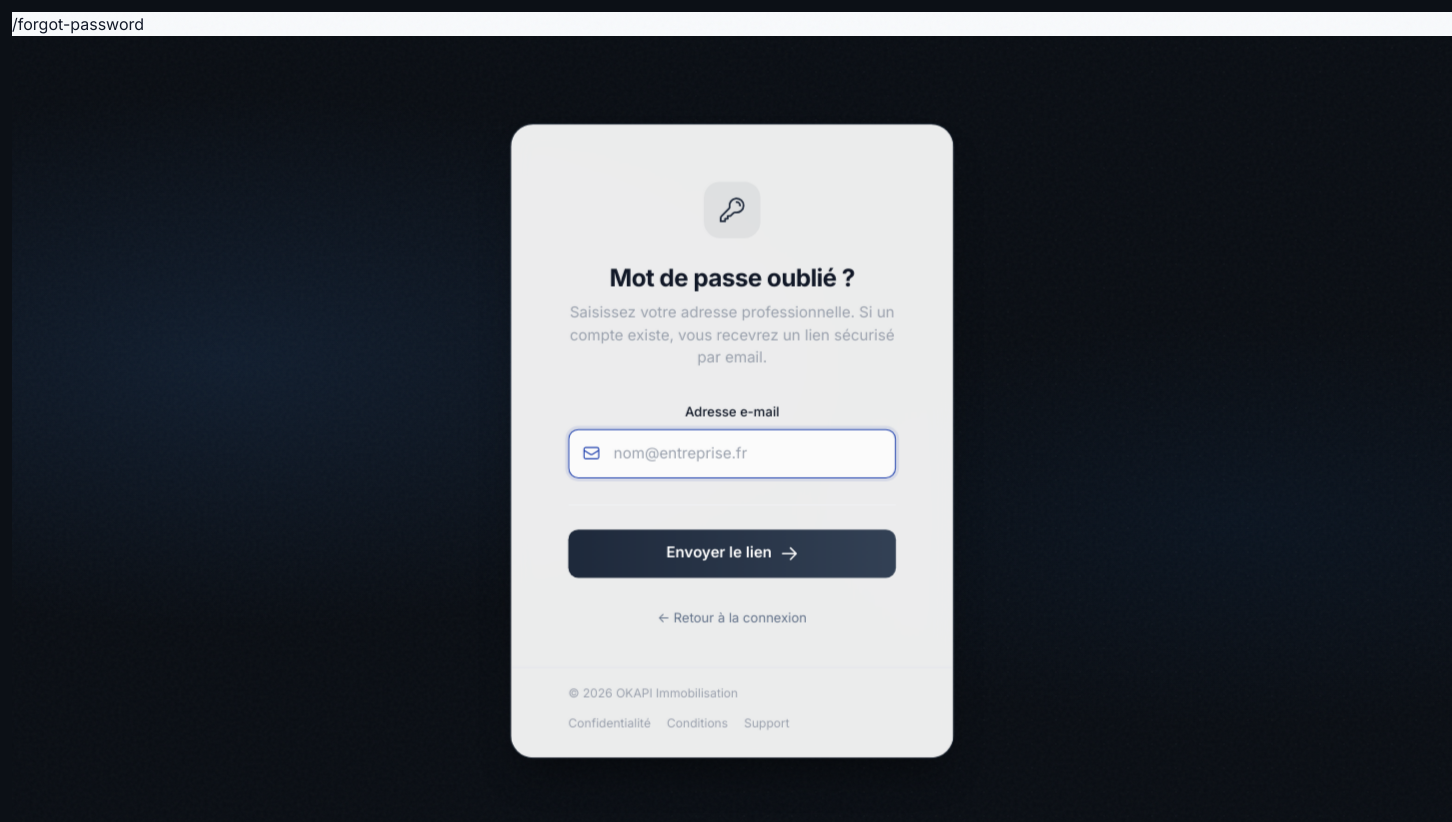
Test: forgot displays only generic confirmation, ignoring any legacy token/link without logging them
Type "someone@example.com" into the field labelled "Adresse e-mail". click: {"x": 732, "y": 453}
box: [568,429,896,478]
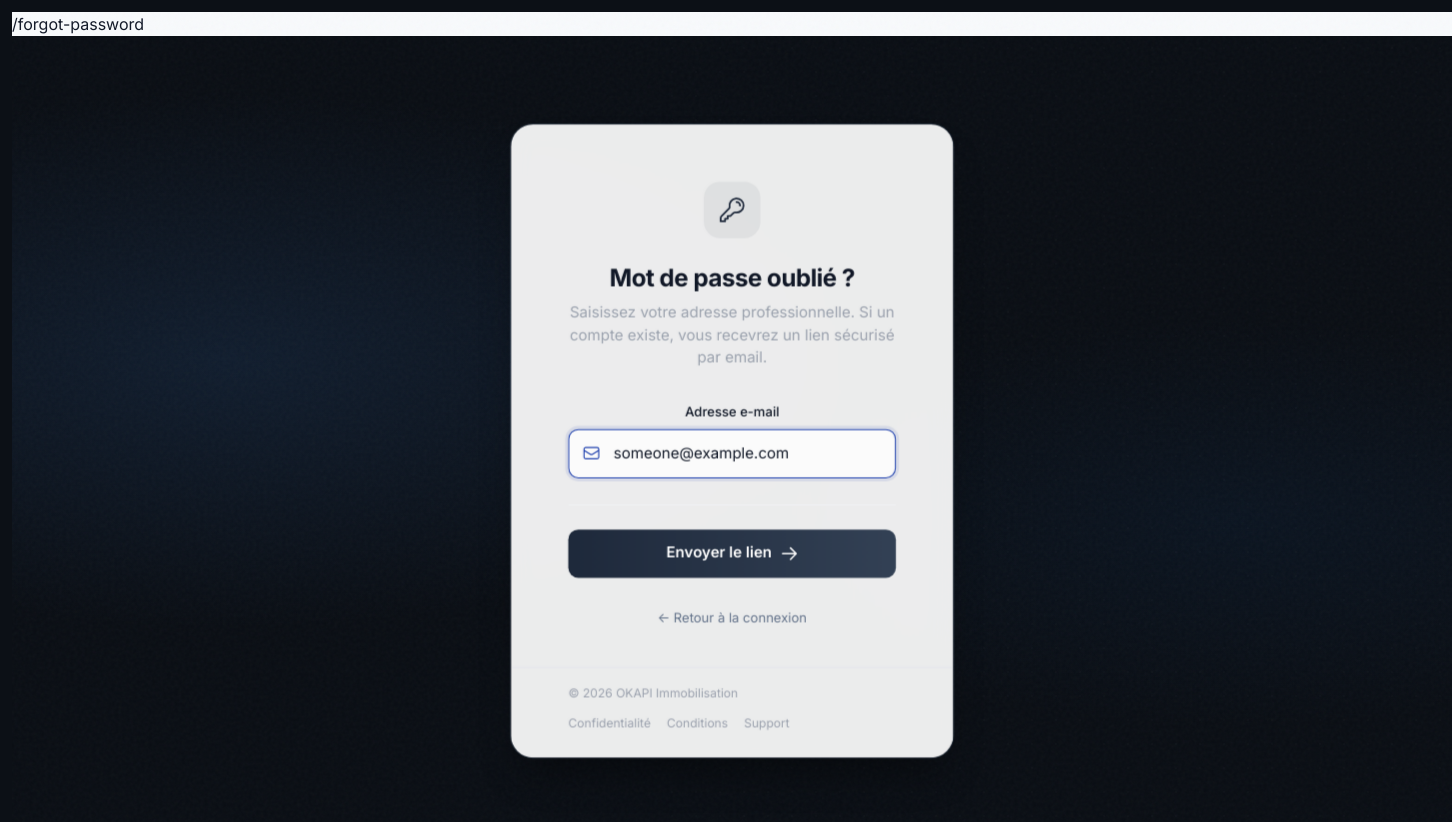
Click the button "Envoyer le lien". click: {"x": 732, "y": 553}
box: [568,529,896,577]
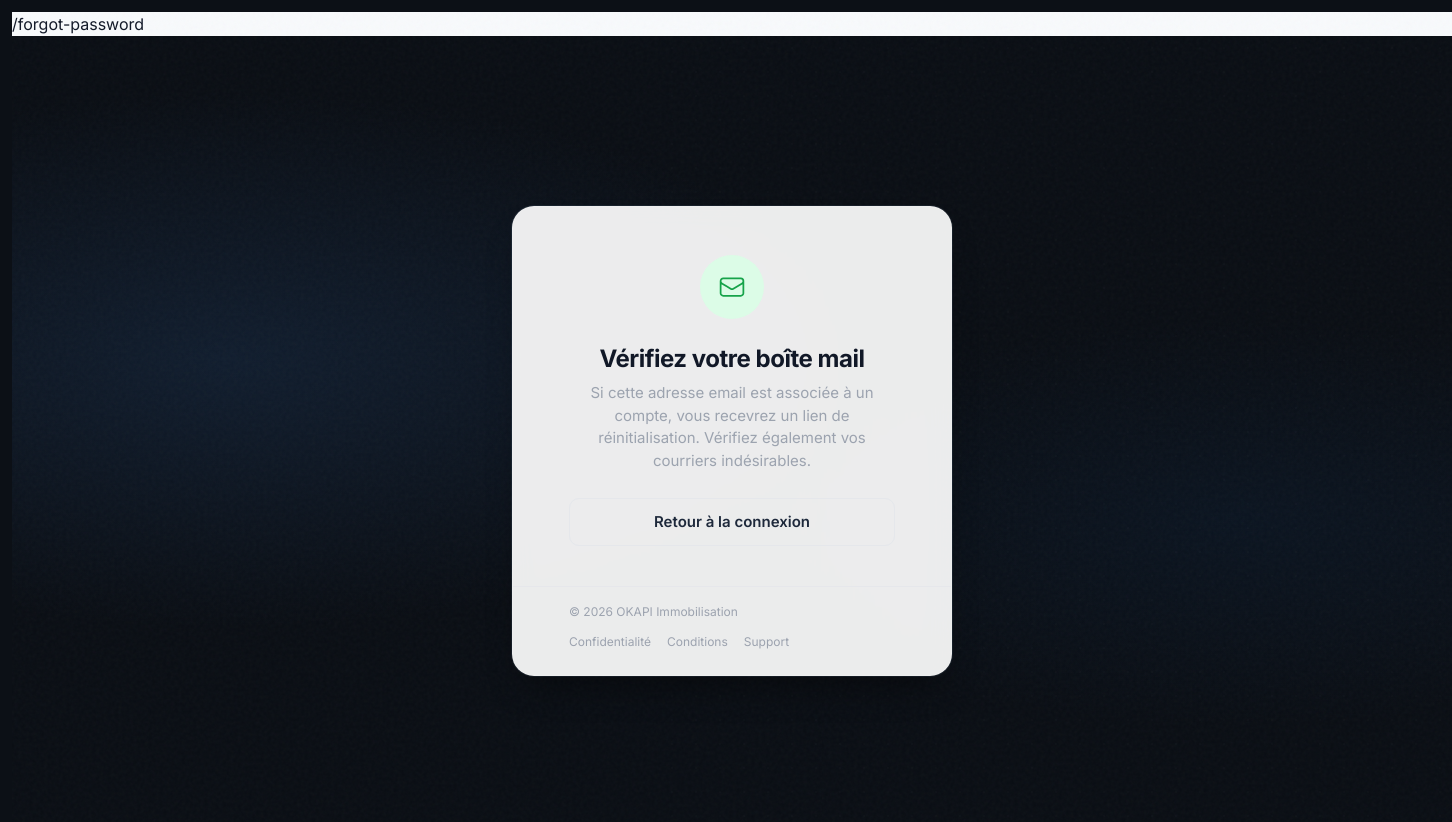
Now the text "Si cette adresse email est associée" is shown, box [590,383,874,470]
